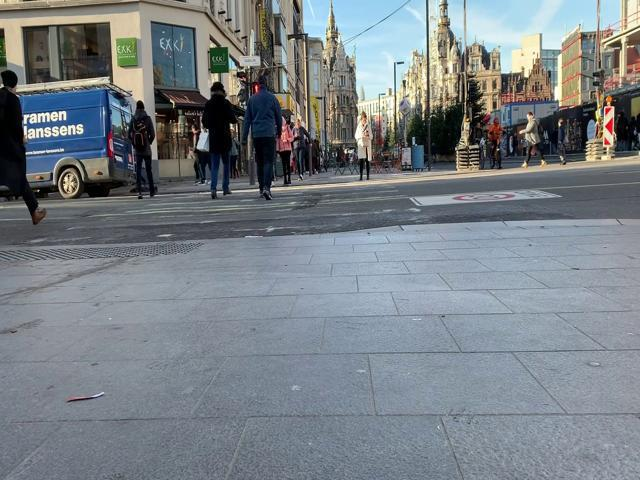shoe: (31, 208, 47, 224)
